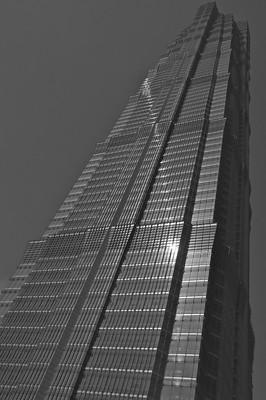building: (3, 5, 262, 400)
